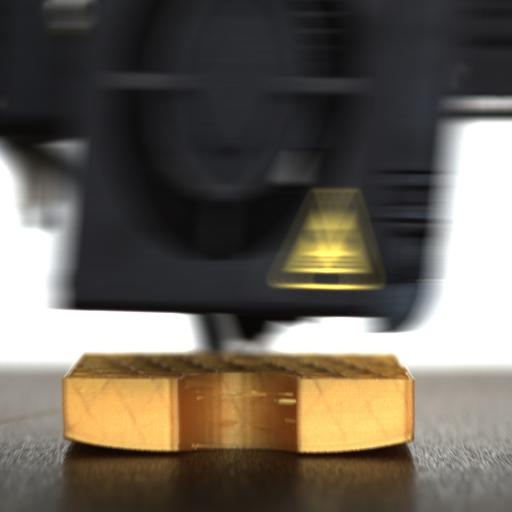warp: (62, 428, 188, 454), (294, 431, 422, 456)
